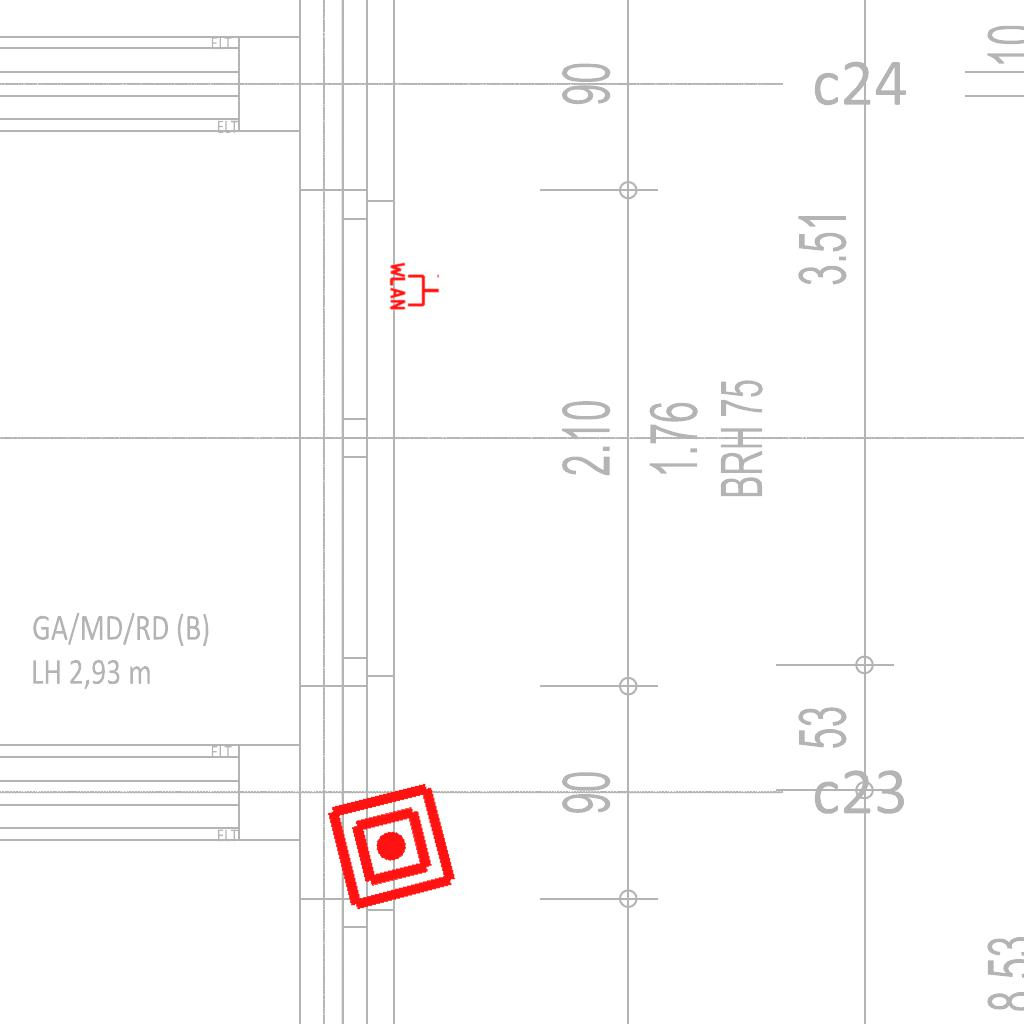NAM-Nichtautomatischer_Melder: (323, 778, 460, 915)
WLAN: (389, 260, 441, 312)
